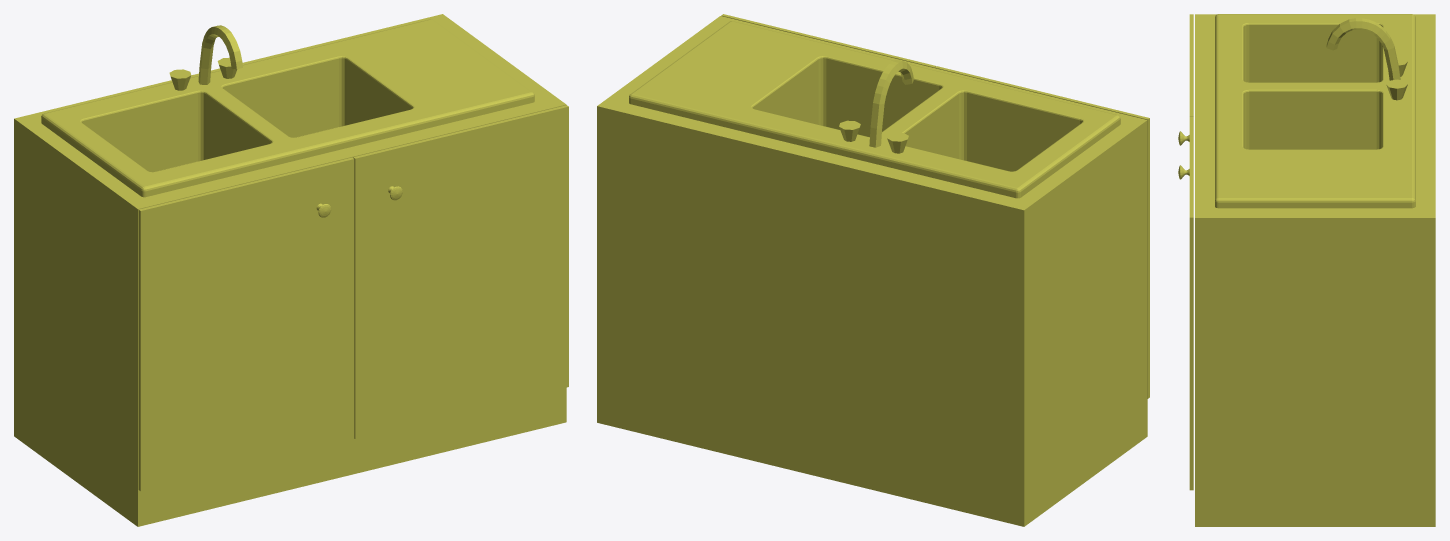
Rendered from eteks-sink.glb.
The picture shows the model from 3 angles, left to right: view 1: azimuth 30°, elevation 25°; view 2: azimuth 150°, elevation 25°; view 3: azimuth 270°, elevation 25°; orthographic projection. The views are drawn at different scales.
Visible parts, largest first — view 1: Meuble, sweethome3d_opening_on_hinge_1_door, sweethome3d_opening_on_hinge_2_door, Evier, Robinet; view 2: Meuble, Evier, sweethome3d_opening_on_hinge_1_door, Robinet, sweethome3d_opening_on_hinge_2_door; view 3: Meuble, Evier, sweethome3d_opening_on_hinge_2_door, Robinet, sweethome3d_opening_on_hinge_1_door, Robinet_droit.
Boxes of the visible parts, left/top/right/bottom form: Meuble: left=14, top=14, right=566, bottom=526; sweethome3d_opening_on_hinge_1_door: left=138, top=157, right=354, bottom=491; sweethome3d_opening_on_hinge_2_door: left=353, top=105, right=568, bottom=438; Evier: left=41, top=19, right=534, bottom=197; Robinet: left=198, top=25, right=242, bottom=84; Meuble: left=597, top=16, right=1147, bottom=526; Evier: left=629, top=21, right=1120, bottom=198; sweethome3d_opening_on_hinge_1_door: left=935, top=66, right=1149, bottom=398; Robinet: left=869, top=60, right=913, bottom=147; sweethome3d_opening_on_hinge_2_door: left=721, top=14, right=936, bottom=67; Meuble: left=1195, top=14, right=1435, bottom=526; Evier: left=1215, top=14, right=1415, bottom=208; sweethome3d_opening_on_hinge_2_door: left=1189, top=116, right=1193, bottom=490; Robinet: left=1326, top=18, right=1400, bottom=80; sweethome3d_opening_on_hinge_1_door: left=1189, top=14, right=1193, bottom=116; Robinet_droit: left=1386, top=79, right=1407, bottom=100.
Size of the model in its own units: 120 by 106 by 64.14.
